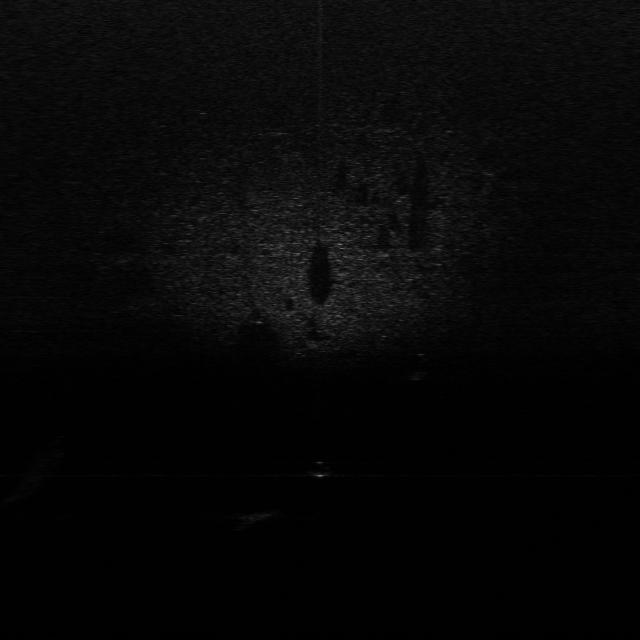ball: (302, 458, 334, 480)
square cage: (234, 504, 284, 524)
tyre: (406, 352, 436, 382)
